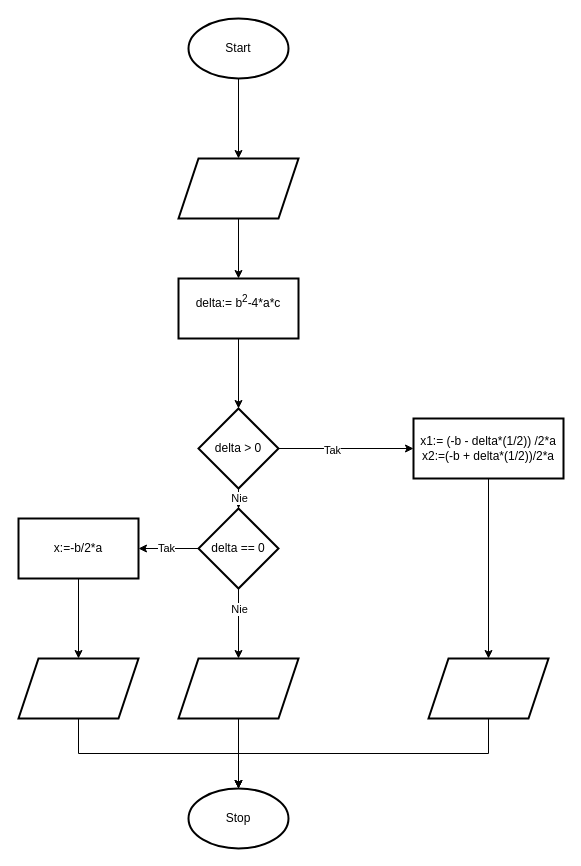
This 581x866 diagram has some shape labels left out. The centre of each missing label's shape, as x and y in pixels:
Pisz ("Brak rozwiązań"): (x=238, y=688)
Pisz (x): (x=78, y=688)
Pisz (x1,x2): (x=488, y=688)
Podaj (a,b,c): (x=238, y=188)
